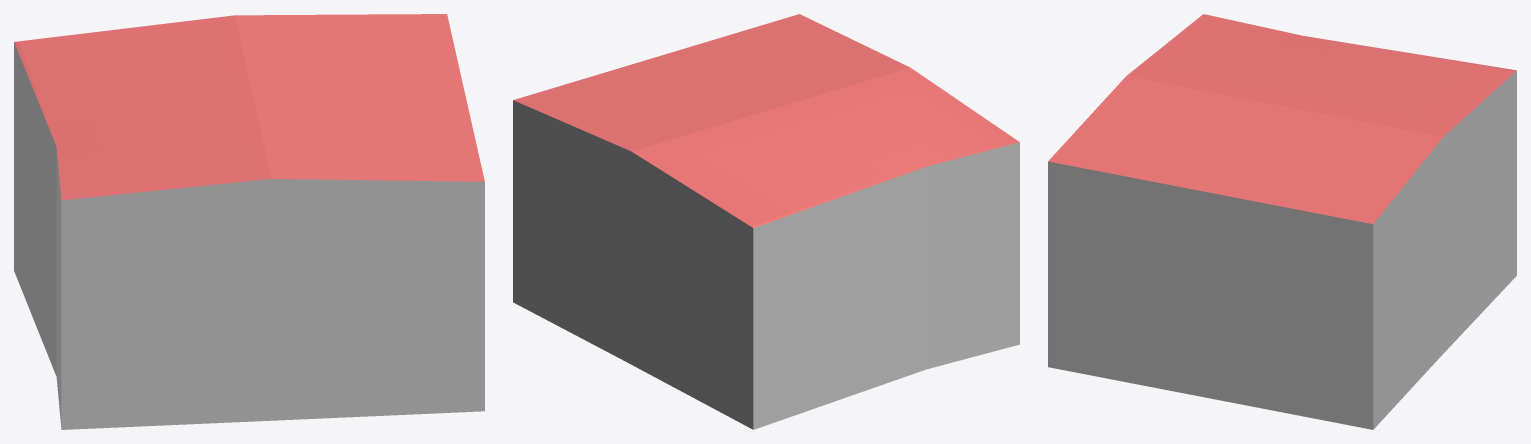
The model's file is DEBY_LOD2_4908153.gltf.
3 views of the same model, side by side, from view 1: azimuth 30°, elevation 25°; view 2: azimuth 150°, elevation 25°; view 3: azimuth 270°, elevation 25° (orthographic). The views are drawn at different scales.
Visible parts, largest first — view 1: Z_UP; view 2: Z_UP; view 3: Z_UP.
Part boxes in pixels (x1=…): Z_UP: x1=14, y1=14, x2=484, y2=429; Z_UP: x1=513, y1=14, x2=1019, y2=429; Z_UP: x1=1048, y1=14, x2=1516, y2=429.
Bounding box in the file's own units: 16.02 × 7.71 × 15.11.
